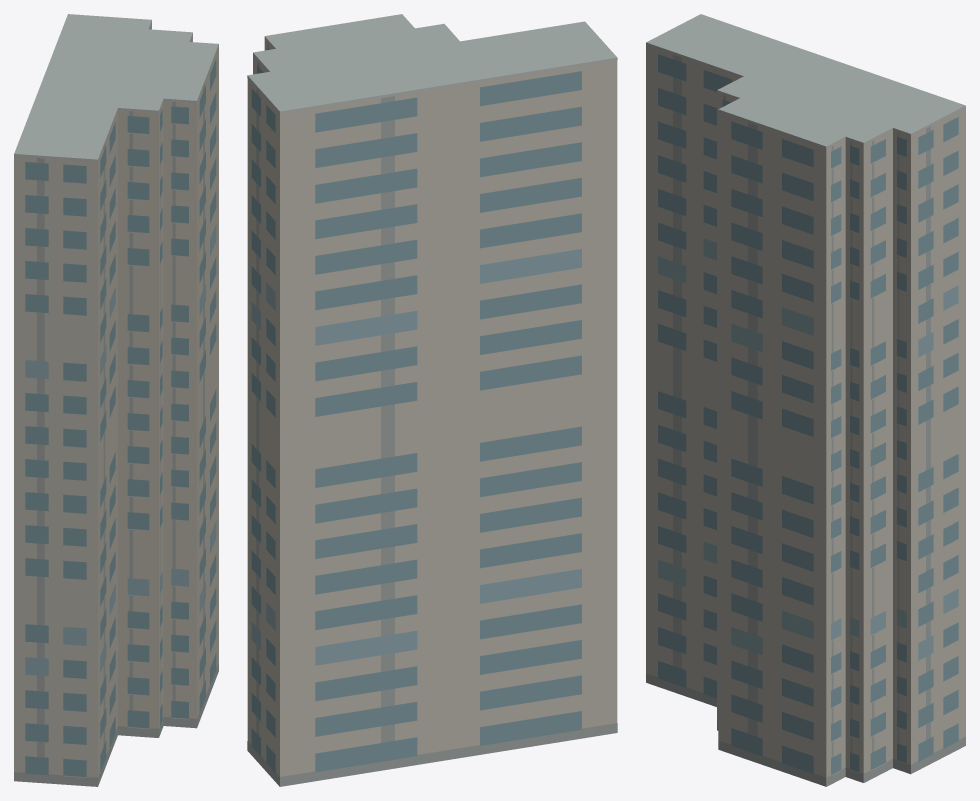
The model's file is residential-17a8f407-ef0f-47c5-90e6-68f6b30d96fc.glb.
3 renders of one model, left to right at view 1: azimuth 30°, elevation 25°; view 2: azimuth 150°, elevation 25°; view 3: azimuth 270°, elevation 25°, orthographic. The views are drawn at different scales.
Parts seen in each view (by area): view 1: residential-17a8f407-ef0f-47c5-90e6-68f6b30d96fc.tmp; view 2: residential-17a8f407-ef0f-47c5-90e6-68f6b30d96fc.tmp; view 3: residential-17a8f407-ef0f-47c5-90e6-68f6b30d96fc.tmp.
Boxes of the visible parts, x1,y1,x2,y2 form: residential-17a8f407-ef0f-47c5-90e6-68f6b30d96fc.tmp: [14, 14, 218, 786]; residential-17a8f407-ef0f-47c5-90e6-68f6b30d96fc.tmp: [247, 14, 617, 786]; residential-17a8f407-ef0f-47c5-90e6-68f6b30d96fc.tmp: [646, 14, 965, 786].
Bounding box in the file's own units: 26.22 × 59 × 26.71.
